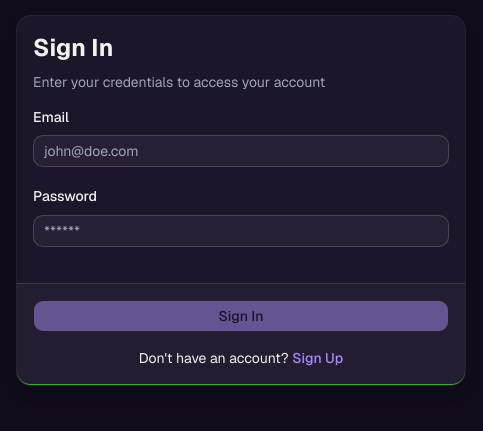
SignIn › shows a validation error and keeps the button disabled when the email is invalid
Type "not-an-email" into the field labelled "Email".
click(241, 151); type("not-an-email")  # box x1=33 y1=135 x2=449 y2=167
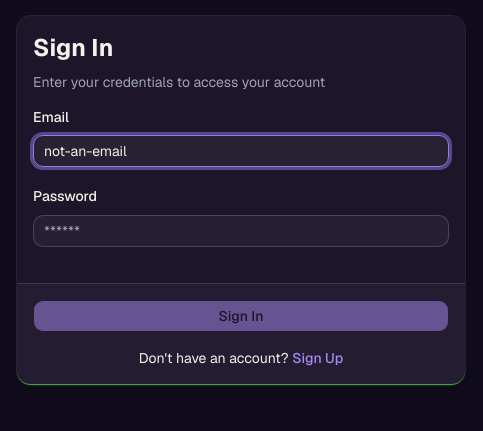
Press Tab
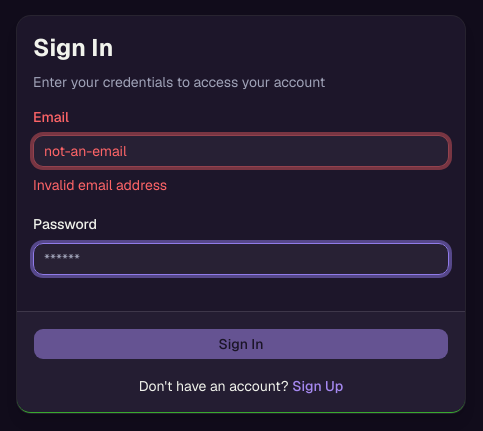
Expected: the button "Sign In" is disabled, x1=33 y1=328 x2=449 y2=360
Expected: the text "Invalid" is shown, x1=33 y1=176 x2=167 y2=194
